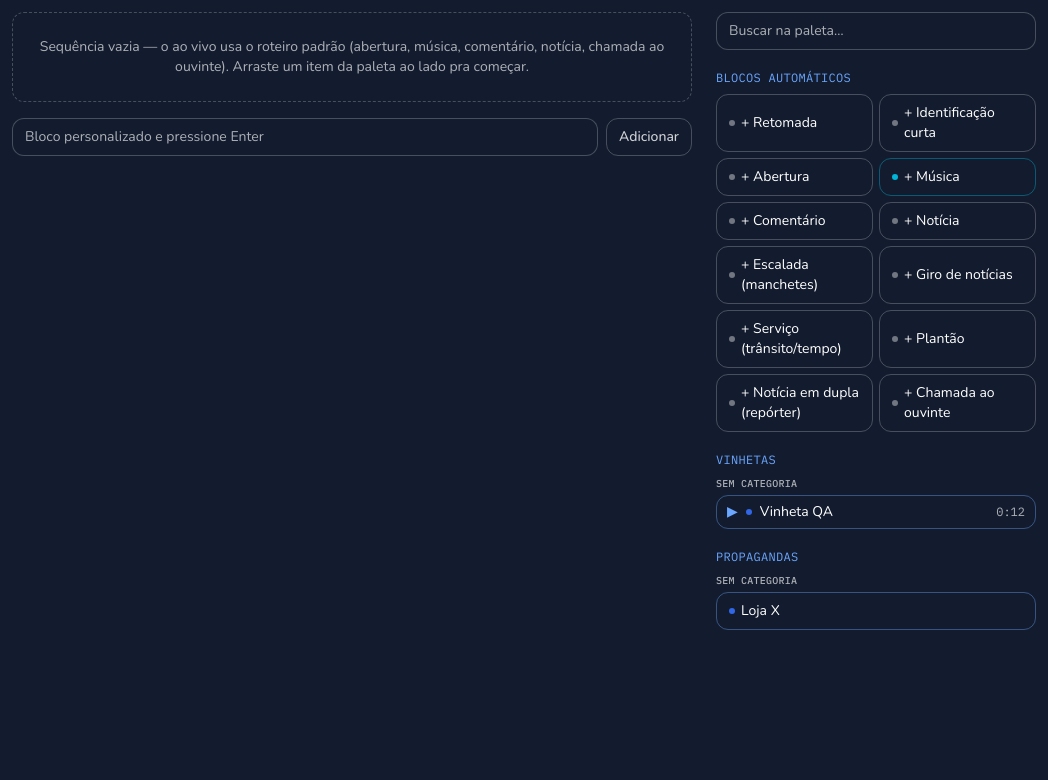
Test: RoteiroBlocosEditor › busca na paleta filtra por nome, escondendo o que nao bate
Step 1. Type "Loja" into the field with placeholder "Buscar na paleta…" → (876, 31), box [716,12,1036,50]
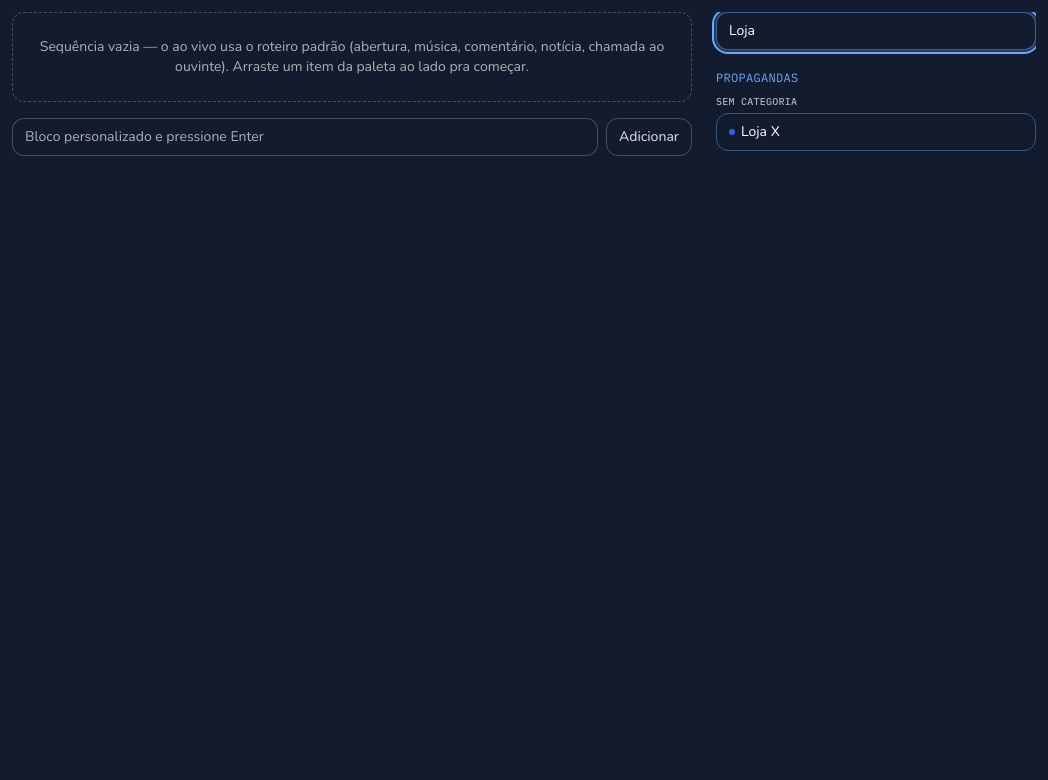
Expected: the text "Loja X" is shown, [741,122,780,142]
Expected: the button "Vinheta QA" is gone
Expected: the button "+ Abertura" is gone
